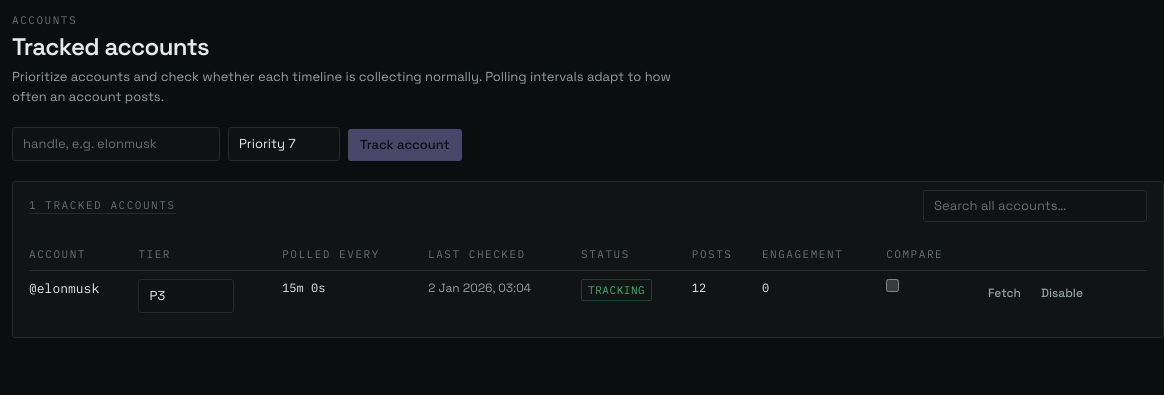
Test case: row actions › queues an on-demand fetch and confirms it
Check: the button "@elonmusk" is shown, box x1=29 y1=279 x2=99 y2=299
Click the button with aria-label "Fetch @elonmusk": [1004, 293] box x1=978 y1=279 x2=1031 y2=307
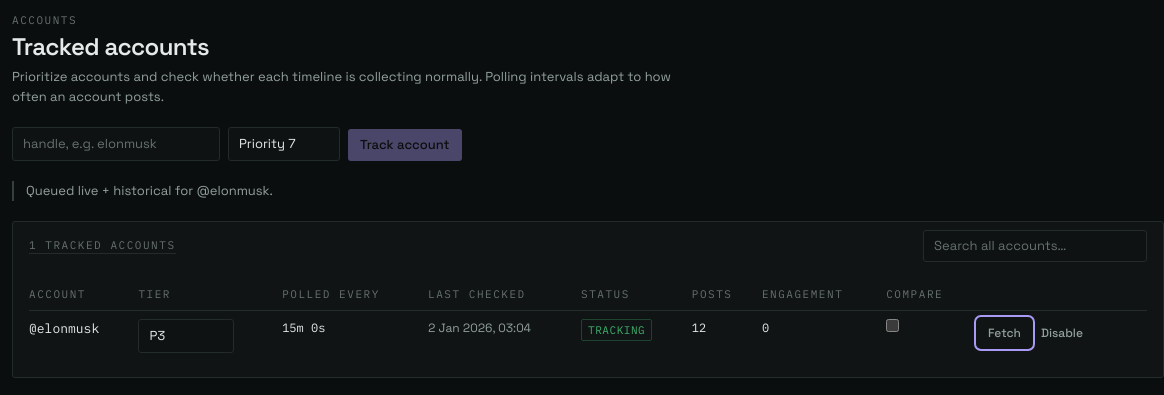
Check: the text "Queued live + historical for @elonmusk." is shown, box x1=12 y1=180 x2=1163 y2=200
